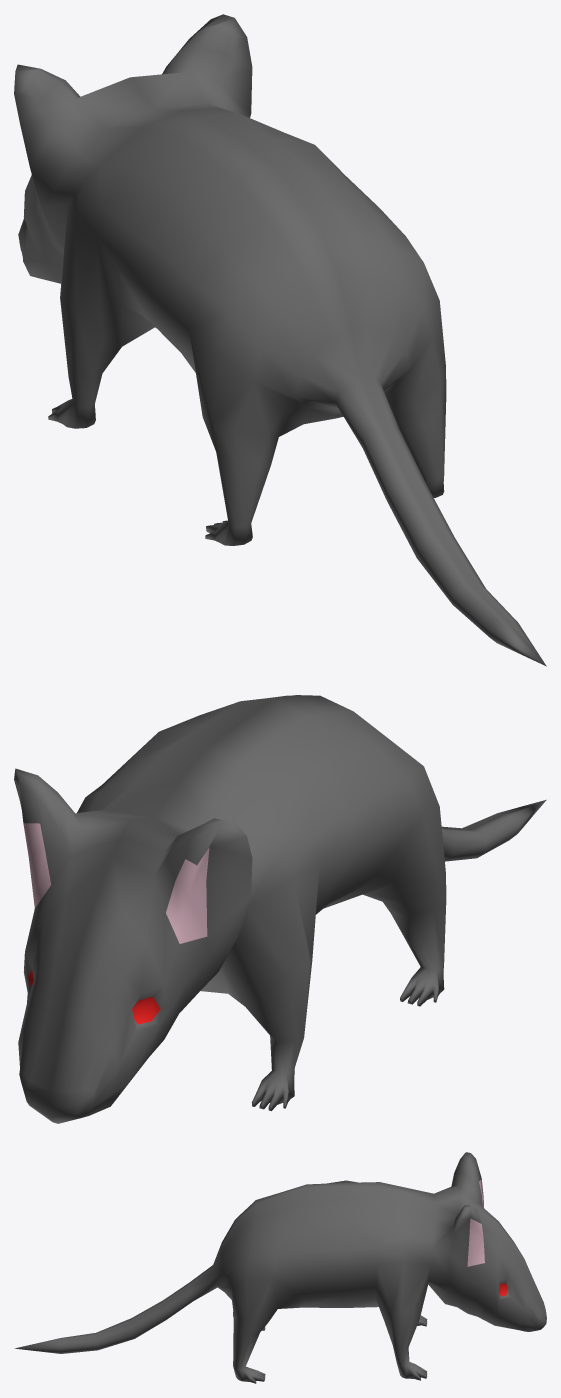
Rendered from Ratte.glb.
The picture shows the model from 3 angles, top to bottom: view 1: azimuth 30°, elevation 25°; view 2: azimuth 150°, elevation 25°; view 3: azimuth 270°, elevation 25°; orthographic projection. The views are drawn at different scales.
Visible parts, largest first — view 1: Rat1; view 2: Rat1; view 3: Rat1.
Part boxes in pixels (bbox=[...]): Rat1: bbox=[14, 14, 546, 666]; Rat1: bbox=[14, 695, 546, 1123]; Rat1: bbox=[14, 1152, 546, 1383].
Size of the model in its own units: 0.7185 by 0.8967 by 2.49.
